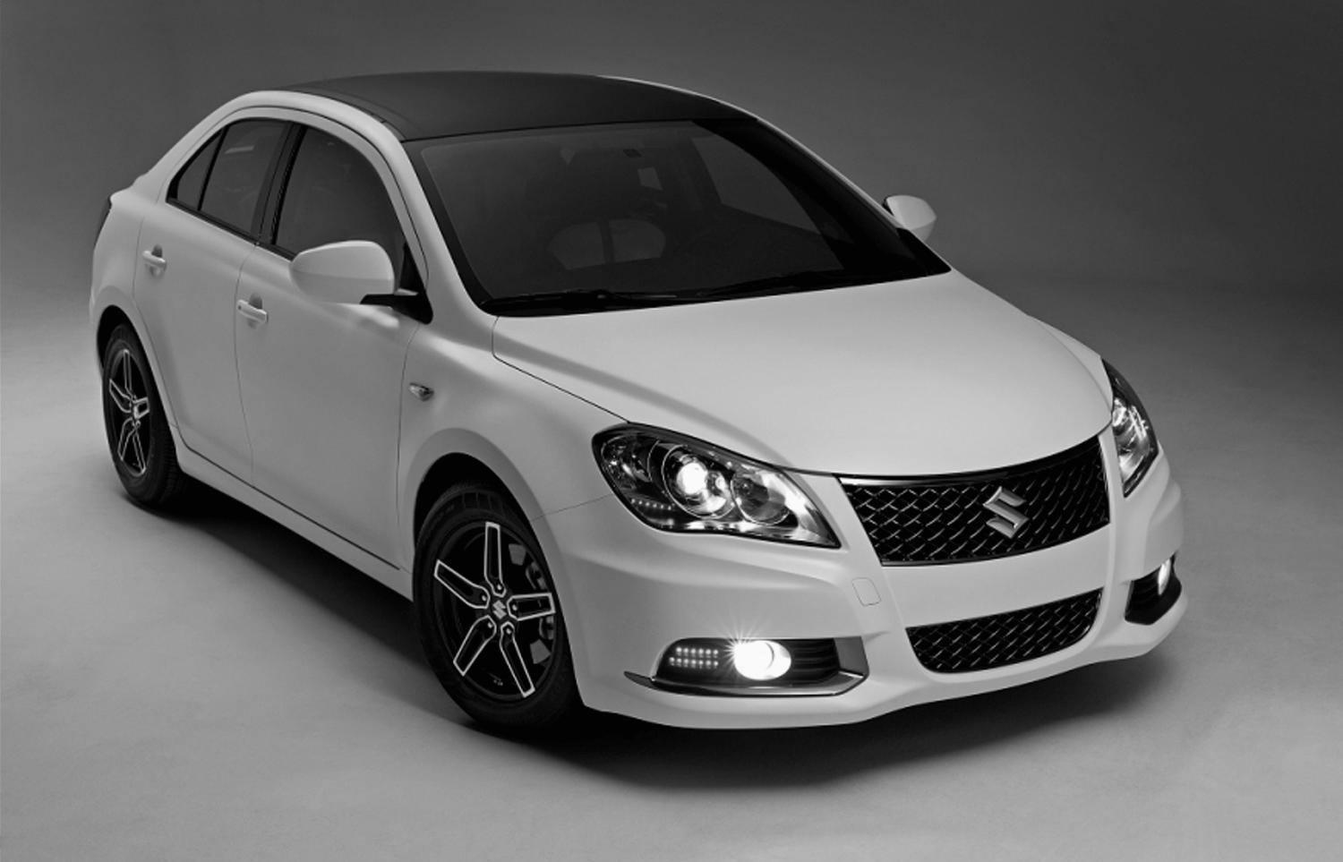car: (94, 70, 1191, 731)
